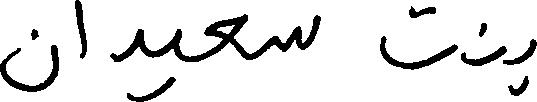X: (380, 1, 457, 74), (0, 24, 56, 96), (111, 24, 143, 101), (205, 9, 246, 64), (276, 10, 320, 56), (75, 0, 87, 63), (172, 24, 181, 89), (526, 34, 536, 92), (497, 41, 507, 69)
